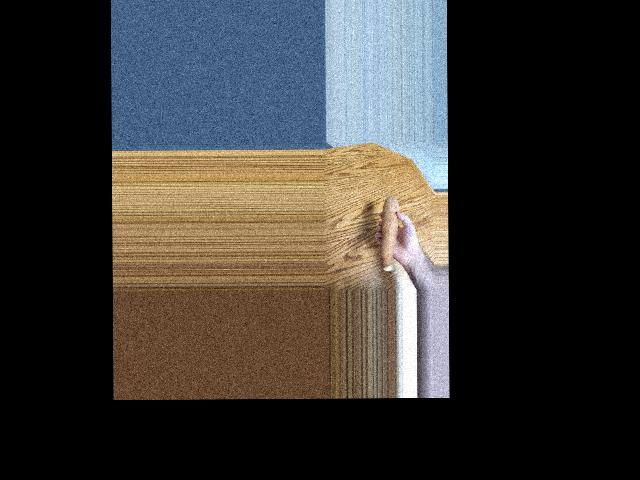sweet_potato: (376, 195, 395, 265)
